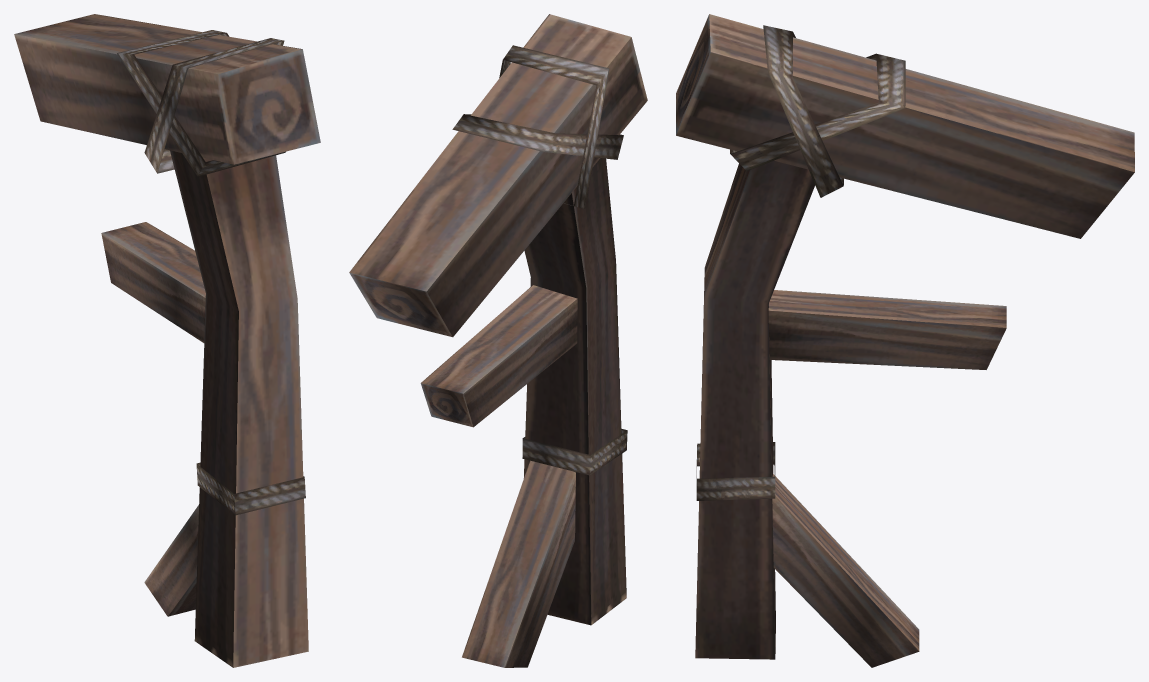
File: mine_wall_support_02.fbx
The picture shows the model from 3 angles, left to right: view 1: azimuth 30°, elevation 25°; view 2: azimuth 150°, elevation 25°; view 3: azimuth 270°, elevation 25°; orthographic projection. The views are drawn at different scales.
Visible parts, largest first — view 1: mine_supports; view 2: mine_supports; view 3: mine_supports.
Part boxes in pixels (x1,y1,x2,y2): mine_supports: [14, 14, 320, 667]; mine_supports: [349, 14, 647, 667]; mine_supports: [676, 14, 1134, 667].
Size of the model in its own units: 0.9807 by 5.63 by 3.76.
